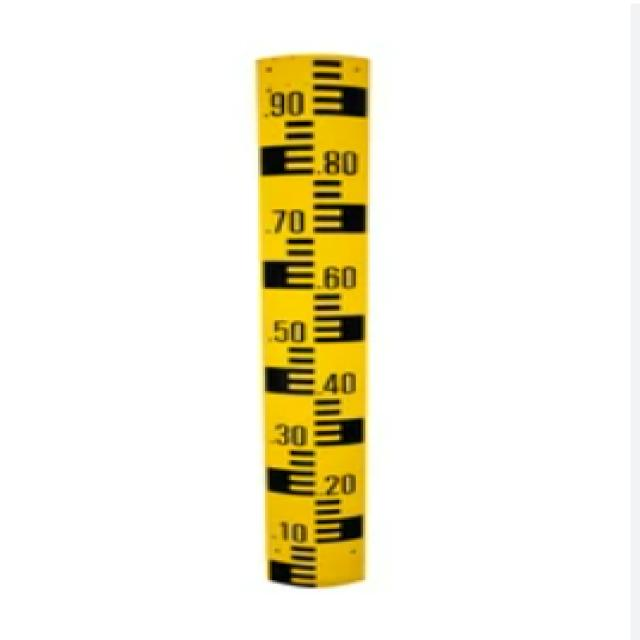ruler: (243, 44, 384, 600)
value: (312, 256, 363, 300), (311, 140, 367, 180), (311, 363, 368, 401), (258, 416, 316, 453), (257, 203, 315, 240), (254, 86, 312, 122), (258, 313, 314, 350), (263, 516, 314, 550), (315, 468, 361, 501)
